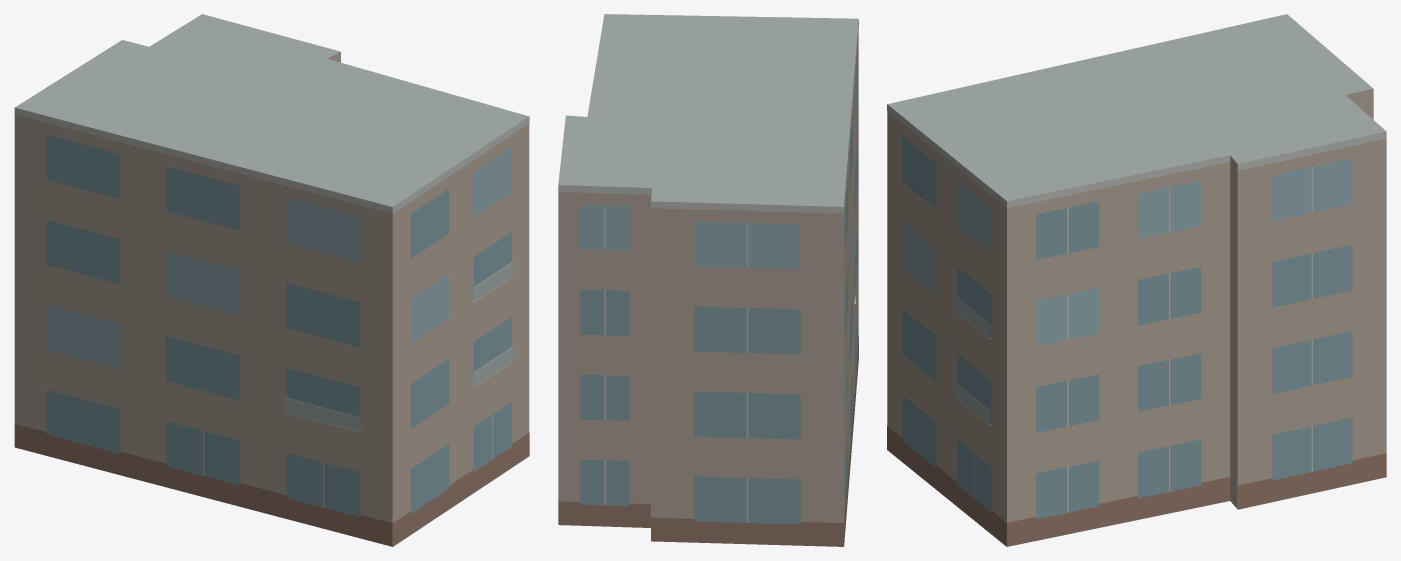
File: survey-upis-32641494.glb
The picture shows the model from 3 angles, left to right: view 1: azimuth 30°, elevation 25°; view 2: azimuth 150°, elevation 25°; view 3: azimuth 270°, elevation 25°; orthographic projection.
Parts seen in each view (by area): view 1: survey-upis-32641494.tmp; view 2: survey-upis-32641494.tmp; view 3: survey-upis-32641494.tmp.
Part boxes in pixels (box(x1,y1,x2,y2)): survey-upis-32641494.tmp: box(14, 14, 529, 546); survey-upis-32641494.tmp: box(558, 14, 858, 546); survey-upis-32641494.tmp: box(887, 14, 1386, 546).
Size of the model in its own units: 14.18 by 12.2 by 15.99.
